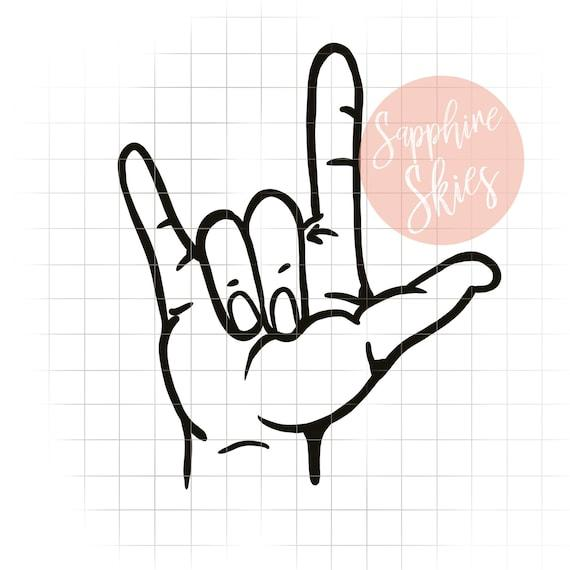Love_you: (117, 38, 510, 492)
